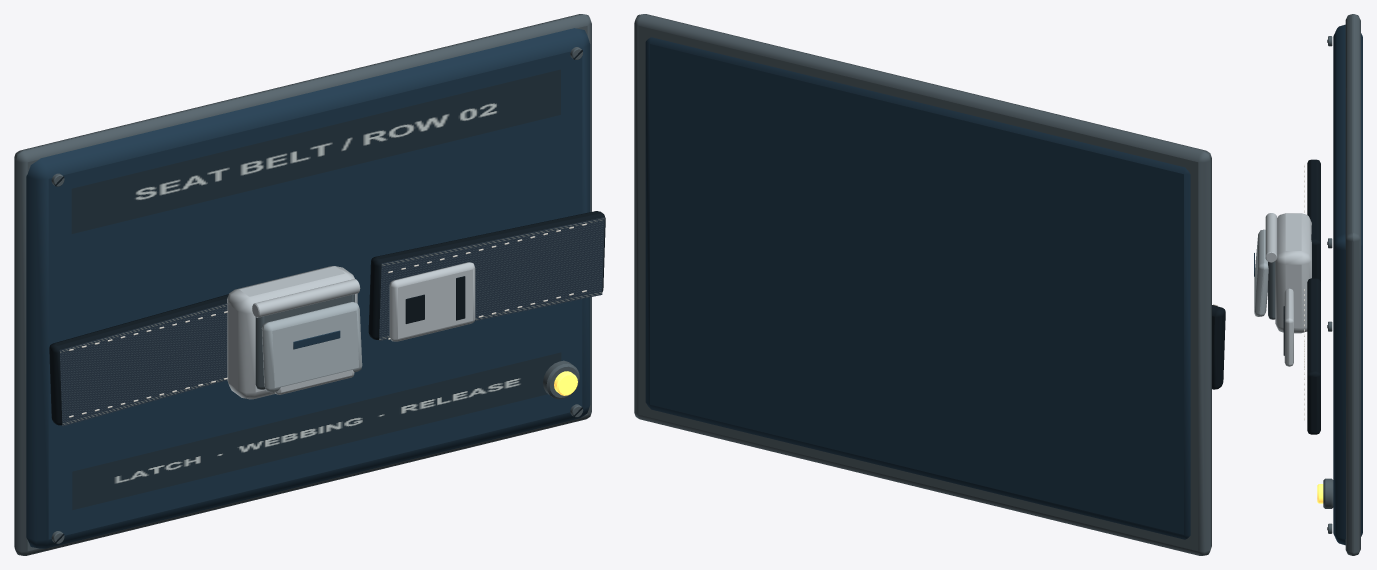
The model's file is seatbelts.glb.
3 renders of one model, left to right at view 1: azimuth 30°, elevation 25°; view 2: azimuth 150°, elevation 25°; view 3: azimuth 270°, elevation 25°, orthographic. The views are drawn at different scales.
Visible parts, largest first — view 1: Static / Navy polymer.002, Static / Embedded instrument / placard atlas.003, Static / Gunmetal fasteners.003, Static / Polished steel.002, Lift release cover.001, Static / Rubber seals.003, Tongue metal plate.001; view 2: Static / Navy polymer.002, Static / Gunmetal fasteners.003, Static / Rubber seals.003; view 3: Static / Gunmetal fasteners.003, Static / Navy polymer.002, Static / Polished steel.002, Static / Rubber seals.003, Lift release cover.001, Tongue metal plate.001.
Part boxes in pixels (x1=…): Static / Navy polymer.002: x1=26, y1=28, x2=590, y2=548; Static / Embedded instrument / placard atlas.003: x1=59, y1=69, x2=604, y2=510; Static / Gunmetal fasteners.003: x1=14, y1=14, x2=591, y2=555; Static / Polished steel.002: x1=227, y1=266, x2=360, y2=399; Lift release cover.001: x1=261, y1=302, x2=362, y2=392; Static / Rubber seals.003: x1=49, y1=50, x2=605, y2=543; Tongue metal plate.001: x1=389, y1=262, x2=475, y2=341; Static / Navy polymer.002: x1=645, y1=37, x2=1190, y2=539; Static / Gunmetal fasteners.003: x1=634, y1=14, x2=1211, y2=555; Static / Rubber seals.003: x1=1212, y1=305, x2=1225, y2=389; Static / Gunmetal fasteners.003: x1=1268, y1=14, x2=1360, y2=555; Static / Navy polymer.002: x1=1333, y1=24, x2=1362, y2=545; Static / Polished steel.002: x1=1265, y1=213, x2=1311, y2=333; Static / Rubber seals.003: x1=1307, y1=39, x2=1327, y2=530; Lift release cover.001: x1=1254, y1=229, x2=1268, y2=316; Tongue metal plate.001: x1=1284, y1=288, x2=1293, y2=366.
Size of the model in its own units: 0.623 by 0.419 by 0.128.
Materials: 8 (1 with a texture image).
